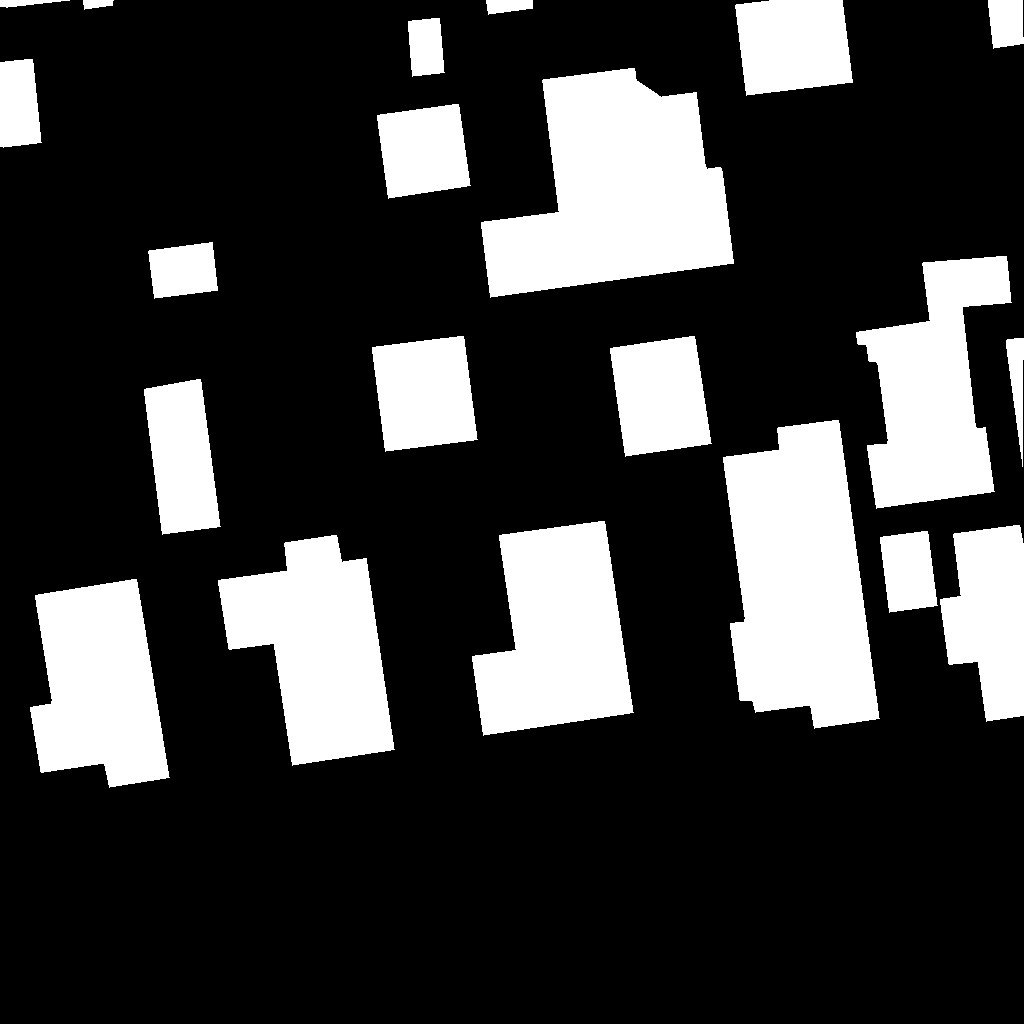building: (481, 68, 735, 298), (723, 420, 880, 729), (218, 535, 395, 766), (856, 256, 1012, 509), (472, 521, 634, 736), (30, 579, 170, 788), (940, 525, 1024, 722), (610, 336, 712, 457), (372, 336, 478, 452), (144, 379, 221, 535), (735, 0, 854, 96), (377, 104, 471, 199), (880, 531, 938, 613), (148, 242, 219, 299), (0, 59, 42, 148), (1006, 338, 1024, 471), (408, 18, 445, 77), (988, 0, 1024, 49), (0, 0, 114, 10), (486, 0, 534, 15)
